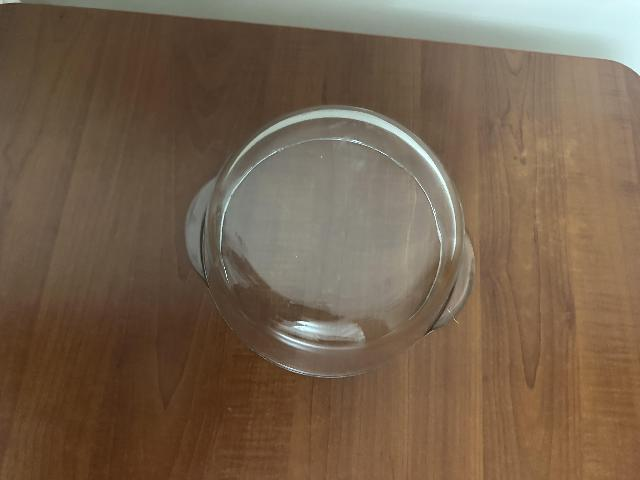Cam: (184, 103, 473, 376)
